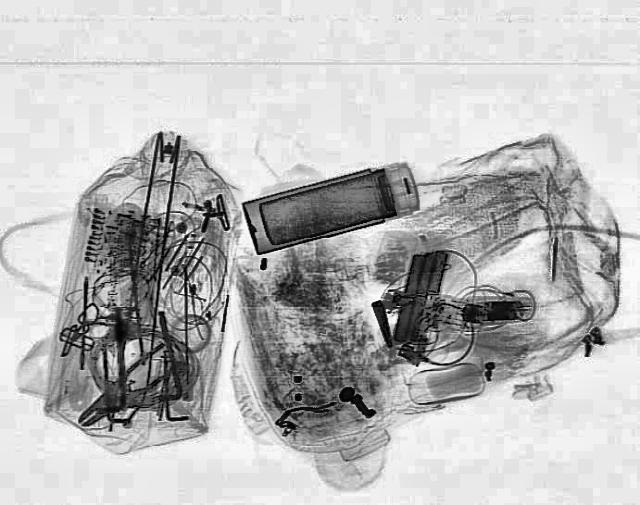Pliers: (63, 341, 189, 435)
